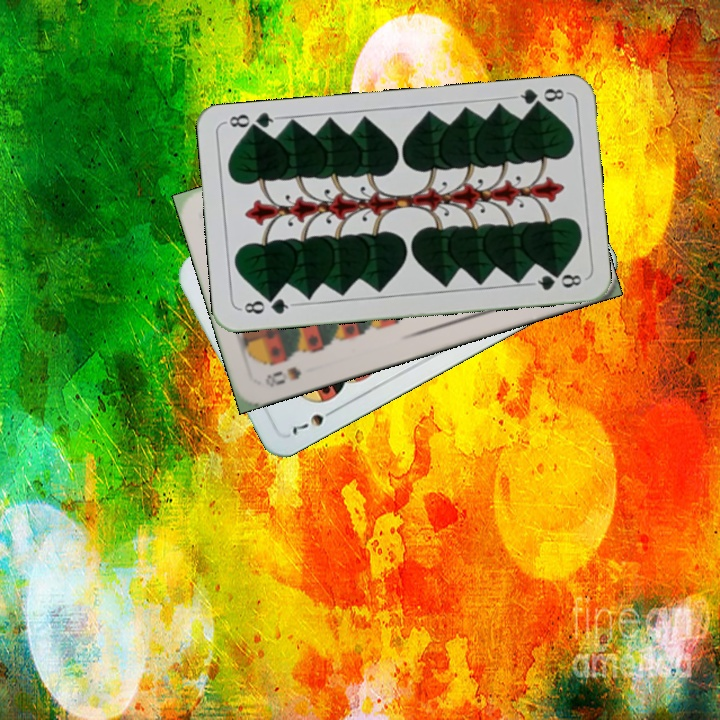G8: (510, 84, 569, 112), (237, 293, 296, 317)
S7: (288, 404, 340, 438)
S8: (261, 362, 304, 390)
